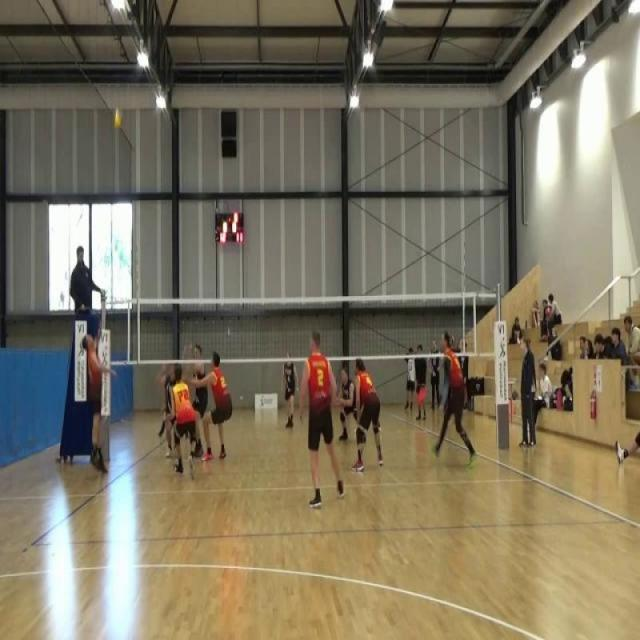volleyball: (111, 105, 125, 132)
